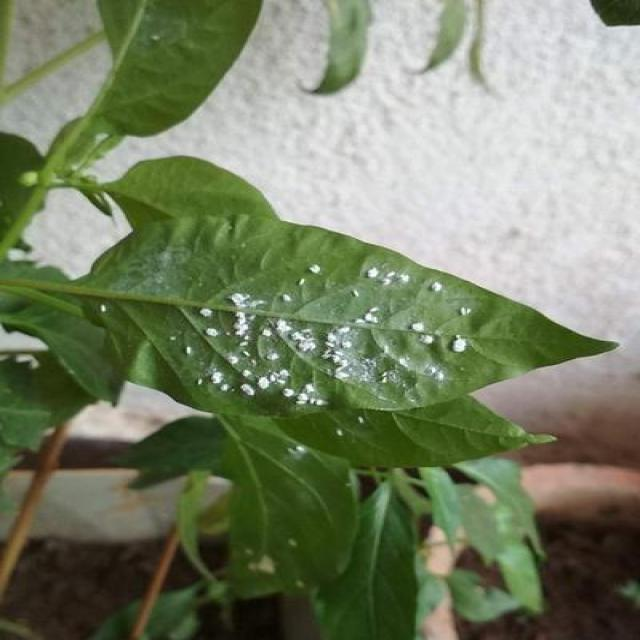Whitefly: (103, 208, 523, 417)
